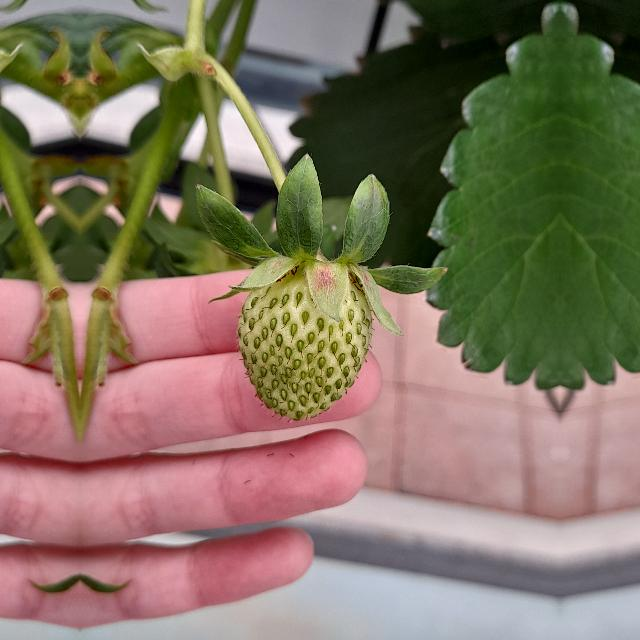Health_25: (236, 266, 372, 420)
